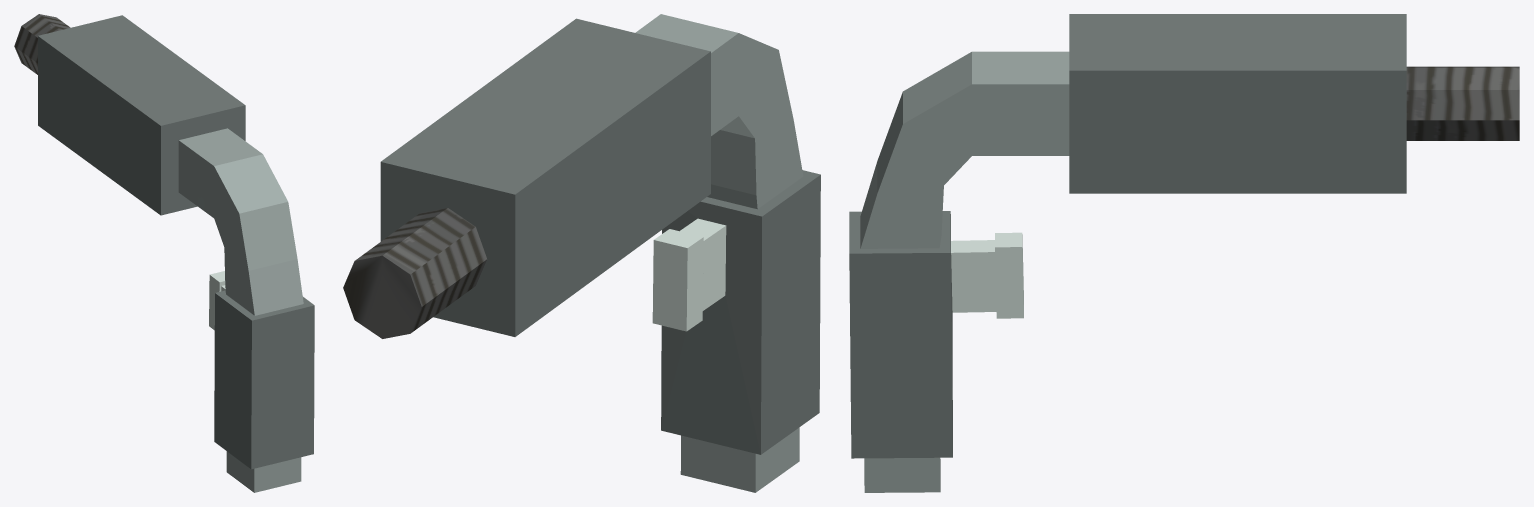
The model's file is Blowtorch.fbx.
The picture shows the model from 3 angles, left to right: view 1: azimuth 30°, elevation 25°; view 2: azimuth 150°, elevation 25°; view 3: azimuth 270°, elevation 25°; orthographic projection. The views are drawn at different scales.
Visible parts, largest first — view 1: Cube; view 2: Cube; view 3: Cube.
Part boxes in pixels (left/top/right/bottom): Cube: left=14, top=14, right=314, bottom=492; Cube: left=343, top=14, right=820, bottom=492; Cube: left=849, top=14, right=1519, bottom=492.
Bounding box in the file's own units: 41.51 × 149 × 208.
